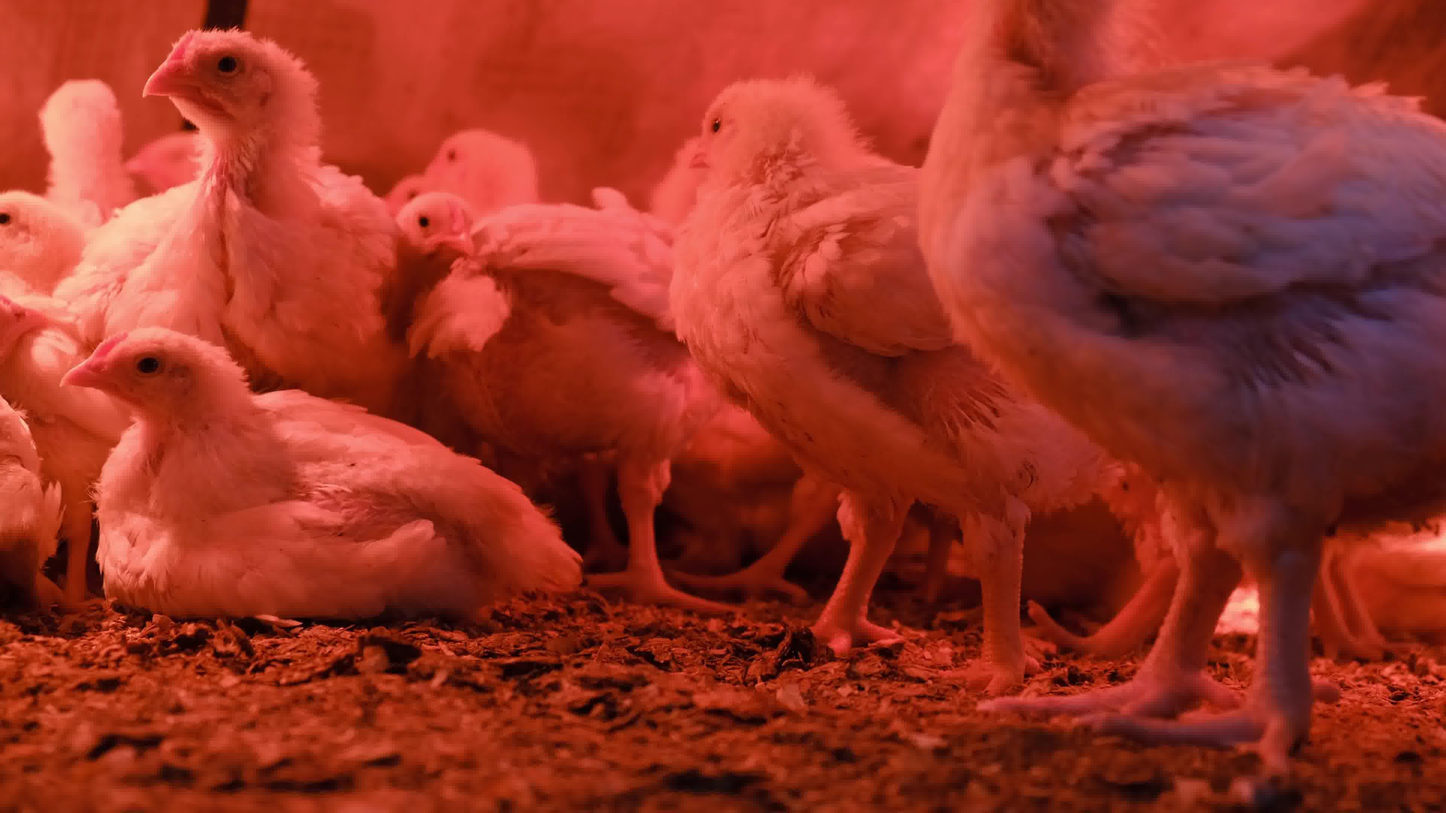AbNormal: (59, 326, 579, 611), (0, 286, 55, 619)
Normal: (909, 0, 1440, 769), (674, 76, 1123, 694), (414, 127, 750, 614), (61, 29, 418, 416), (0, 187, 129, 613), (381, 192, 477, 431), (42, 78, 128, 222), (131, 128, 215, 196)
